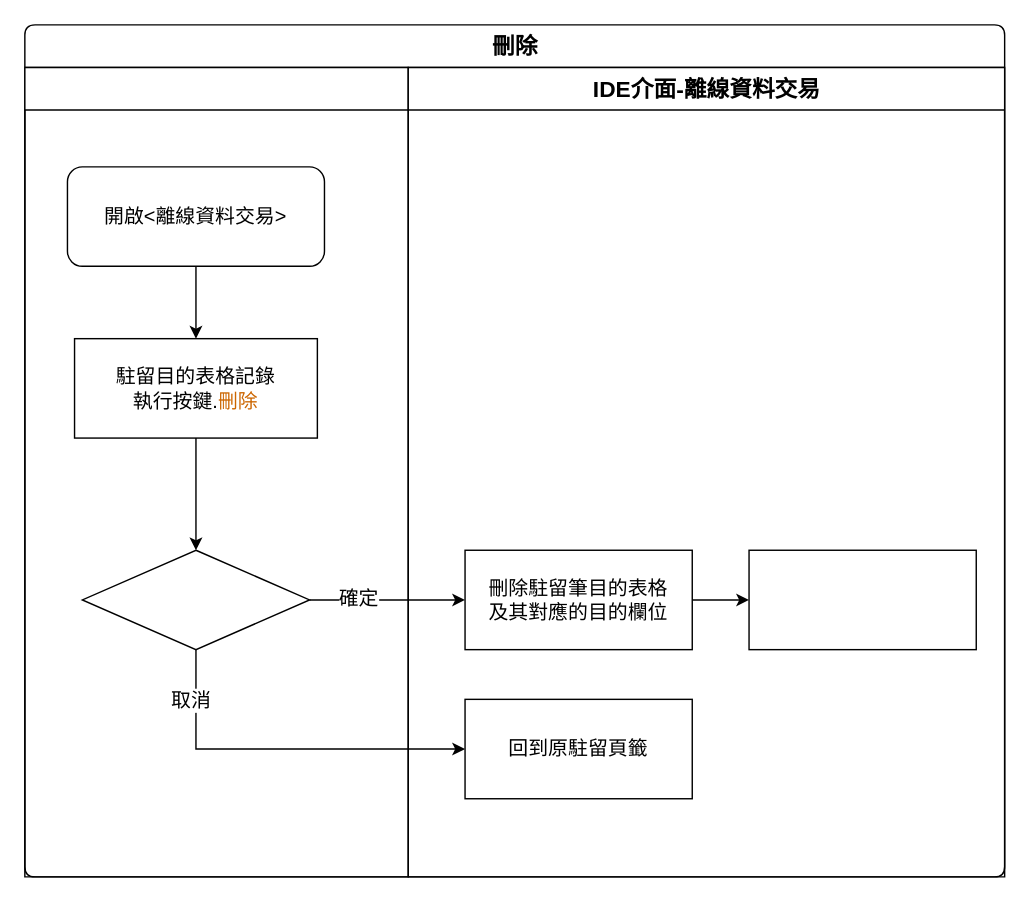
Some shapes in this 1030 by 902 pixel diagram are drawn without their labels. Each missing label, with the box of its shape:
確認刪除: (81, 549, 310, 650)
設計者: (23, 66, 408, 877)
關閉頁籤: (748, 549, 976, 650)
